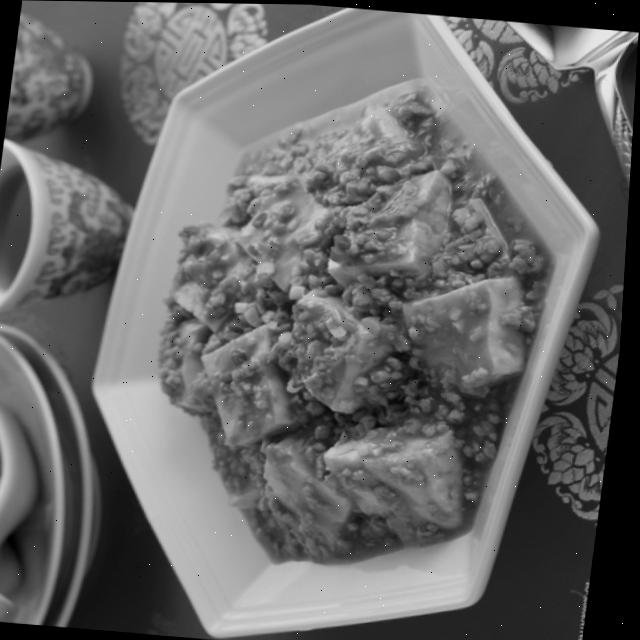豆腐料理: (62, 23, 604, 620)
